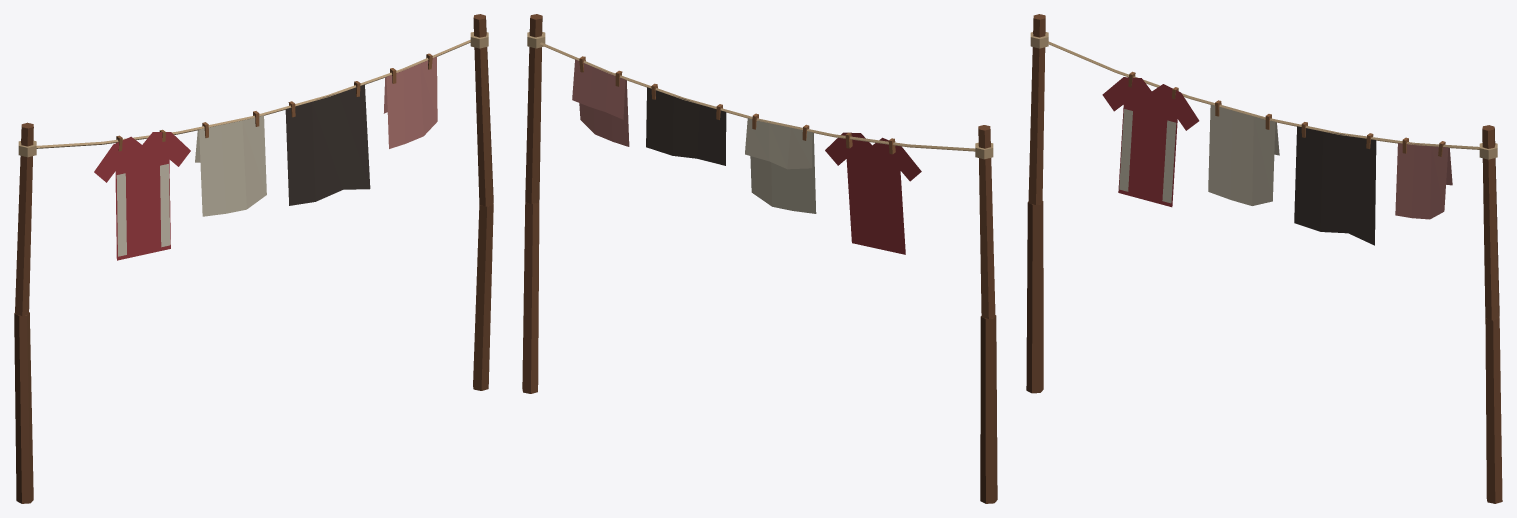
Rendered from tl_furn_clothesline_v01.glb.
The picture shows the model from 3 angles, left to right: view 1: azimuth 30°, elevation 25°; view 2: azimuth 150°, elevation 25°; view 3: azimuth 330°, elevation 25°; orthographic projection.
Visible parts, largest first — view 1: tl_furn_clothesline_v01; view 2: tl_furn_clothesline_v01; view 3: tl_furn_clothesline_v01.
Boxes of the visible parts, x1=… form: tl_furn_clothesline_v01: x1=14, y1=14, x2=493, y2=503; tl_furn_clothesline_v01: x1=522, y1=14, x2=997, y2=503; tl_furn_clothesline_v01: x1=1026, y1=14, x2=1502, y2=503.
Bounding box in the file's own units: 2.63 × 1.98 × 0.1102.
